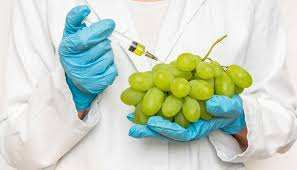Green grapes: (119, 44, 251, 131)
